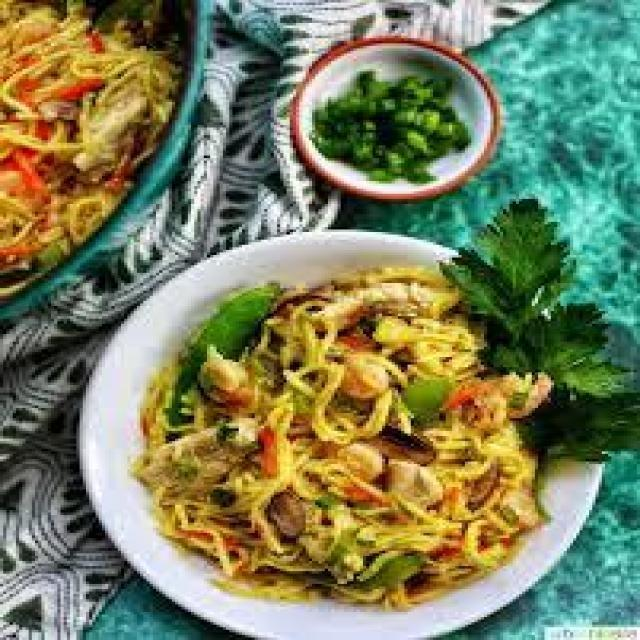pancit bihon: (142, 279, 548, 562)
